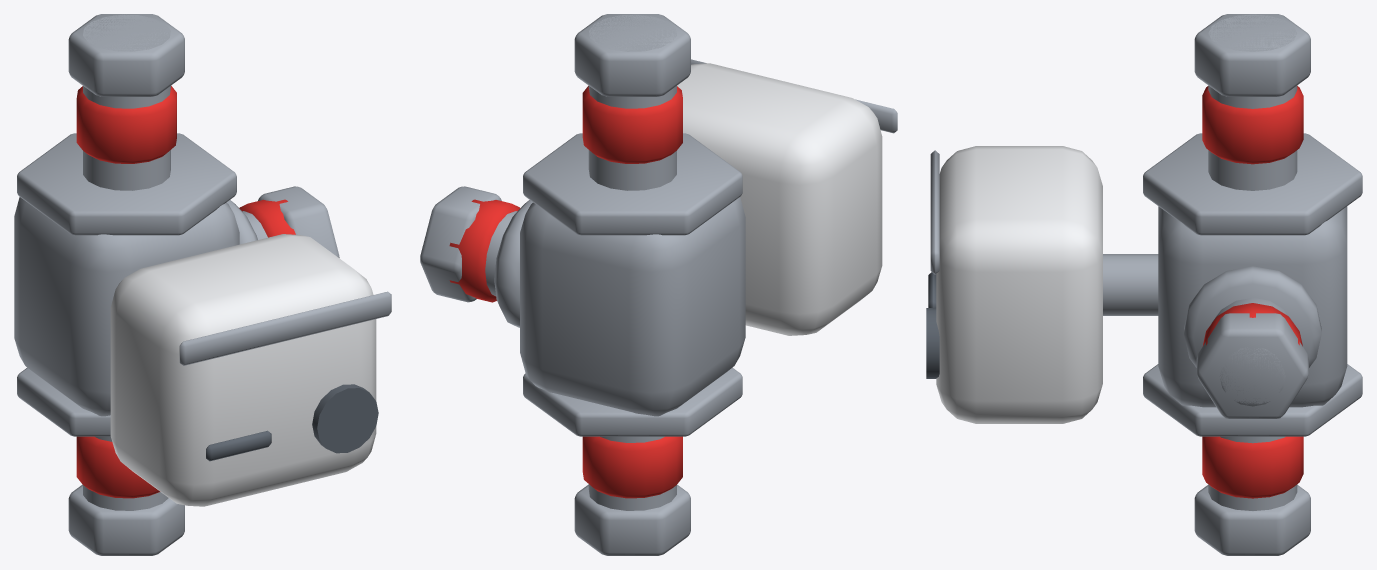
Rendered from heizung.ventil_3weg.glb.
3 renders of one model, left to right at view 1: azimuth 30°, elevation 25°; view 2: azimuth 150°, elevation 25°; view 3: azimuth 270°, elevation 25°, orthographic.
Visible parts, largest first — view 1: heizung.ventil_3weg; view 2: heizung.ventil_3weg; view 3: heizung.ventil_3weg.
Boxes of the visible parts, x1,y1,x2,y2 form: heizung.ventil_3weg: (14, 14, 391, 555); heizung.ventil_3weg: (420, 14, 897, 555); heizung.ventil_3weg: (926, 14, 1362, 555).
Size of the model in its own units: 0.1525 by 0.25 by 0.1965.
